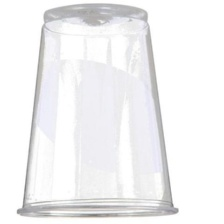glass: (11, 0, 181, 219)
